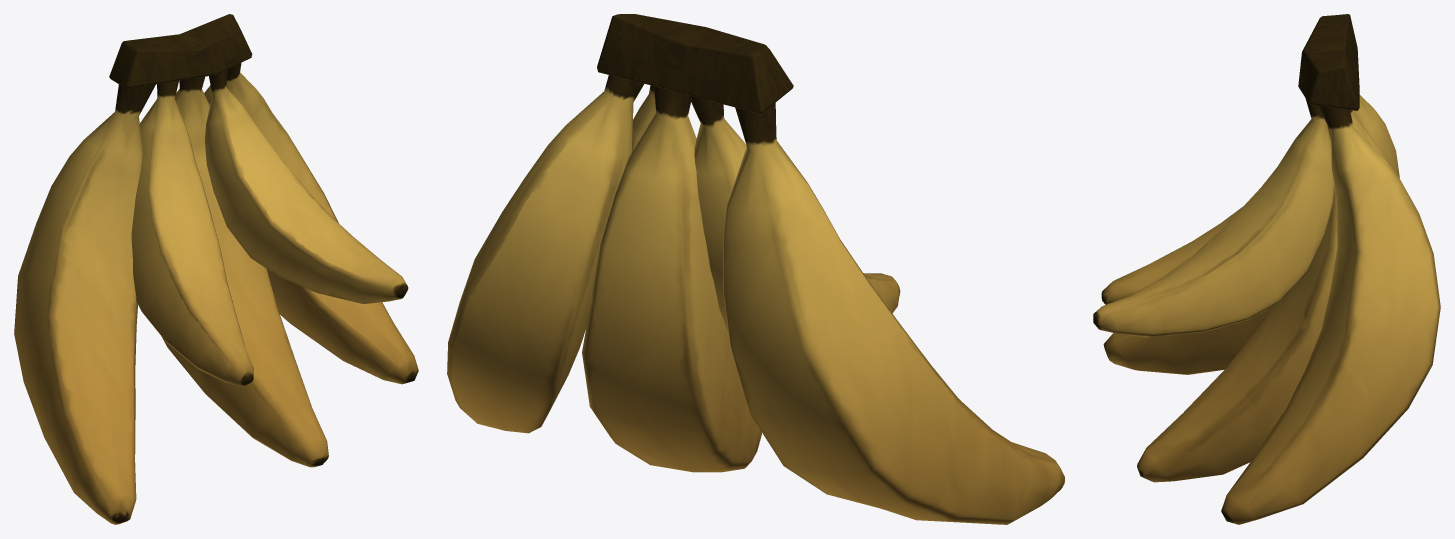
The model's file is banana_bunch.fbx.
The picture shows the model from 3 angles, left to right: view 1: azimuth 30°, elevation 25°; view 2: azimuth 150°, elevation 25°; view 3: azimuth 270°, elevation 25°; orthographic projection. The views are drawn at different scales.
Visible parts, largest first — view 1: banana.003; view 2: banana.003; view 3: banana.003.
Part boxes in pixels (<box>): banana.003: <box>14,14,418,524</box>; banana.003: <box>447,14,1064,524</box>; banana.003: <box>1093,14,1440,524</box>.
Bounding box in the file's own units: 13.87 × 10.47 × 13.92.
1 material, 1 textured.
